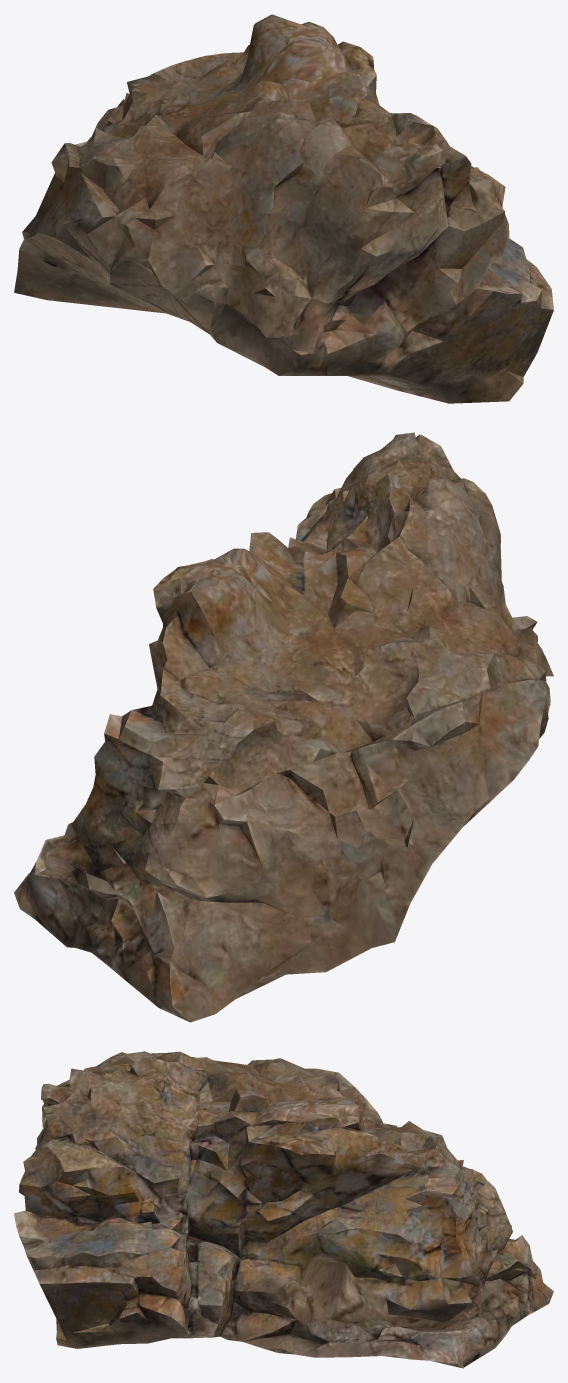
File: boulder_large.glb
3 renders of one model, top to bottom at view 1: azimuth 30°, elevation 25°; view 2: azimuth 150°, elevation 25°; view 3: azimuth 270°, elevation 25°, orthographic. The views are drawn at different scales.
Visible parts, largest first — view 1: boulder_large; view 2: boulder_large; view 3: boulder_large.
Part boxes in pixels (x1,y1,x2,y2): boulder_large: (14,14,553,403); boulder_large: (14,432,553,1022); boulder_large: (14,1051,553,1368).
Size of the model in its own units: 1.28 by 0.9959 by 1.83.
1 material, 1 textured.
